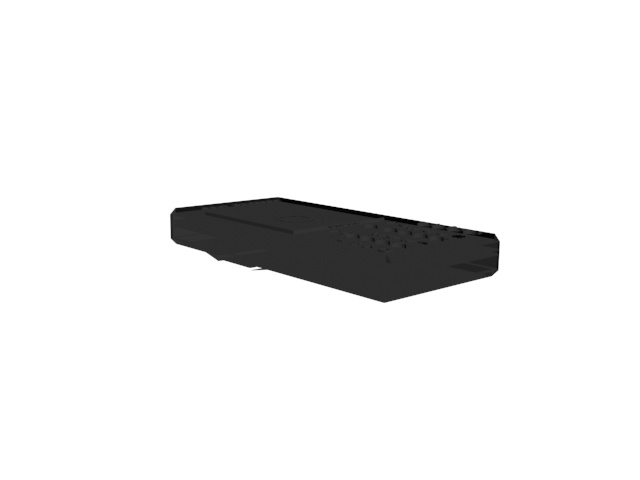mobile_phone: (169, 193, 504, 304)
